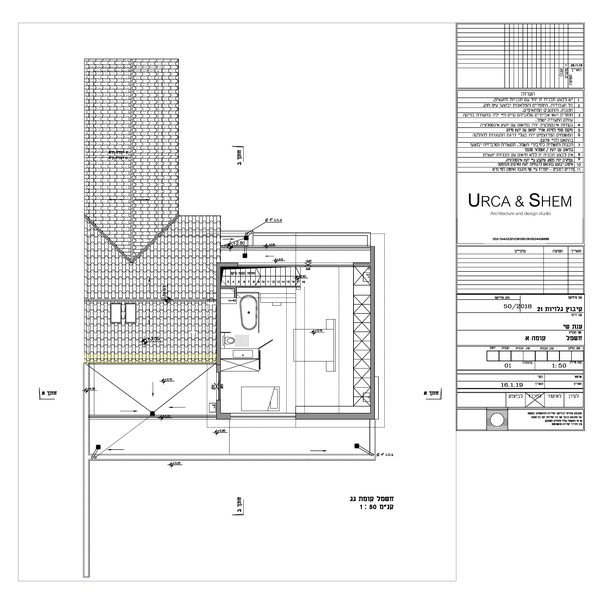room: (212, 249, 379, 432)
wall: (364, 247, 379, 421), (210, 257, 227, 375), (295, 406, 378, 427), (214, 403, 227, 426)
window: (239, 258, 353, 272), (227, 407, 295, 426)
